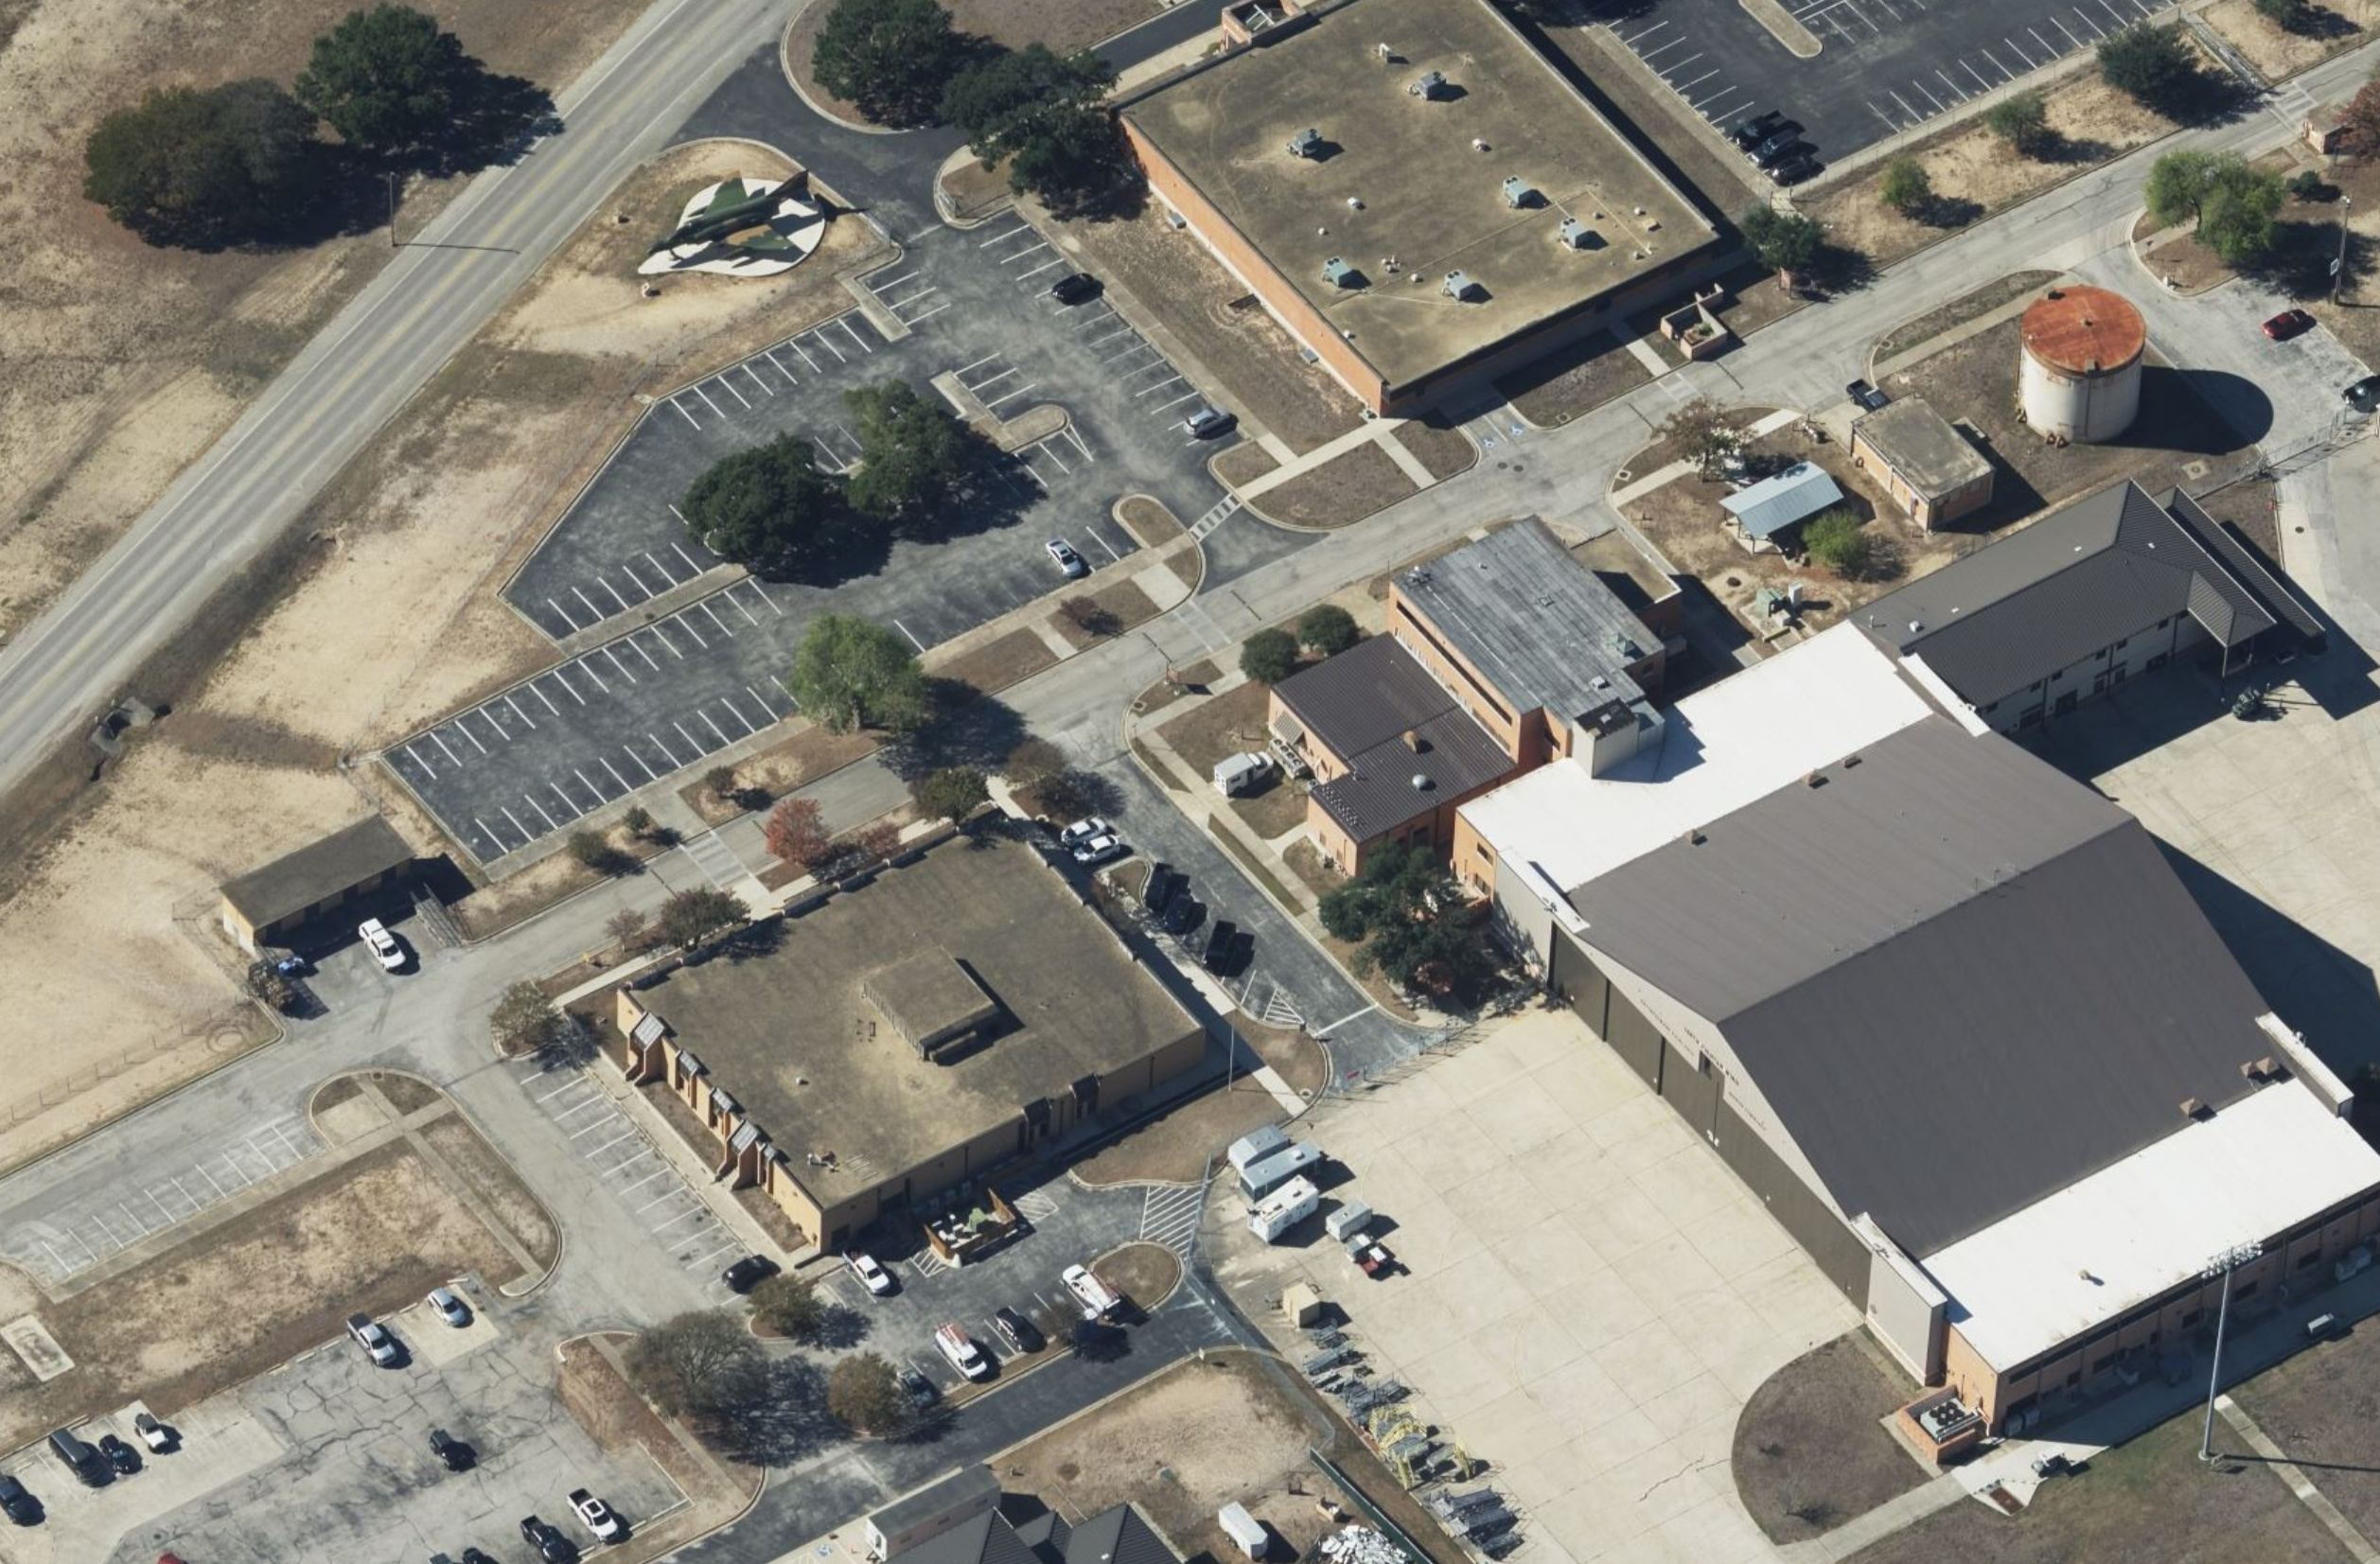F4: (646, 168, 824, 262)
